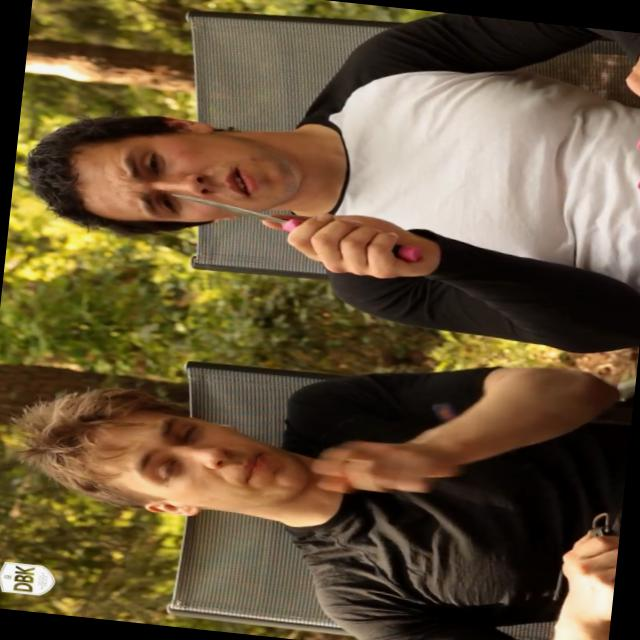knife: (148, 184, 390, 274)
